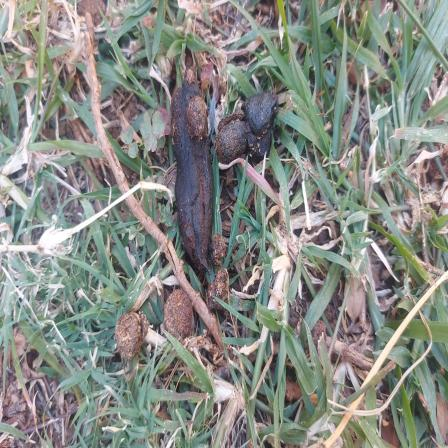dog-poop: (161, 57, 281, 269)
